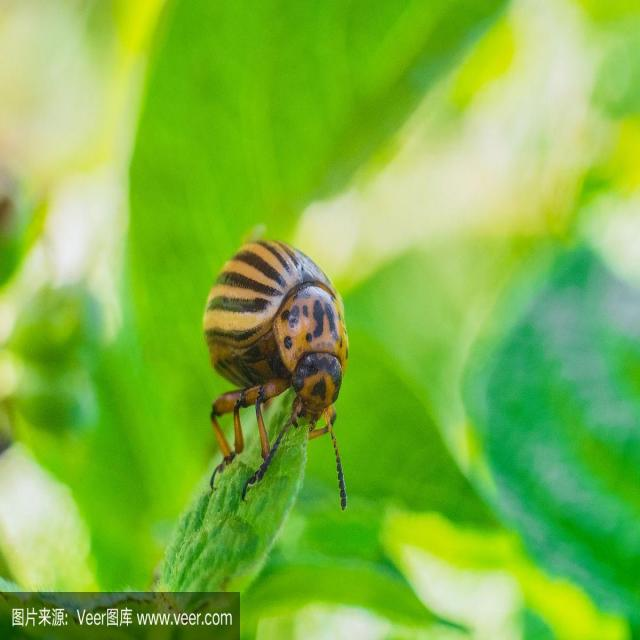ShuCaiHuaBanChong-Grown-: (190, 220, 362, 485)
